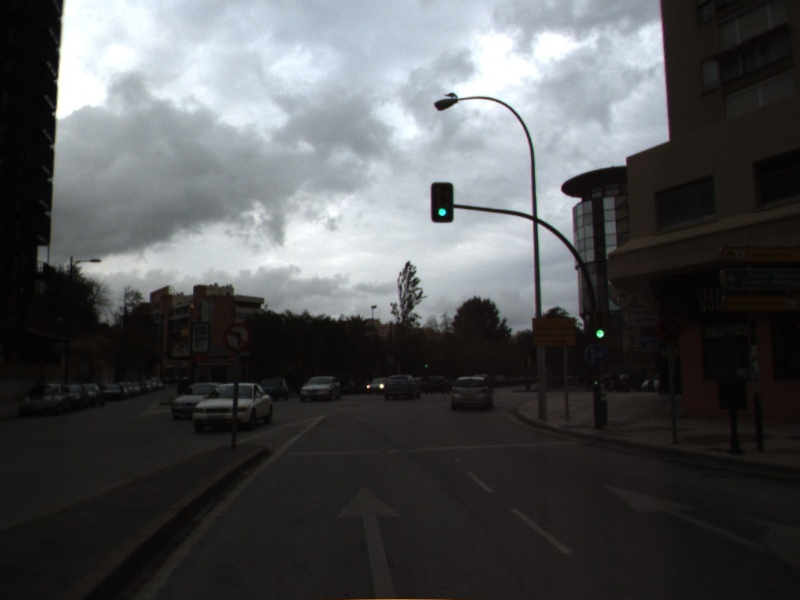STRAIGHT: (333, 482, 406, 600)
STRAIGHT_RIGHT: (600, 479, 800, 571)
